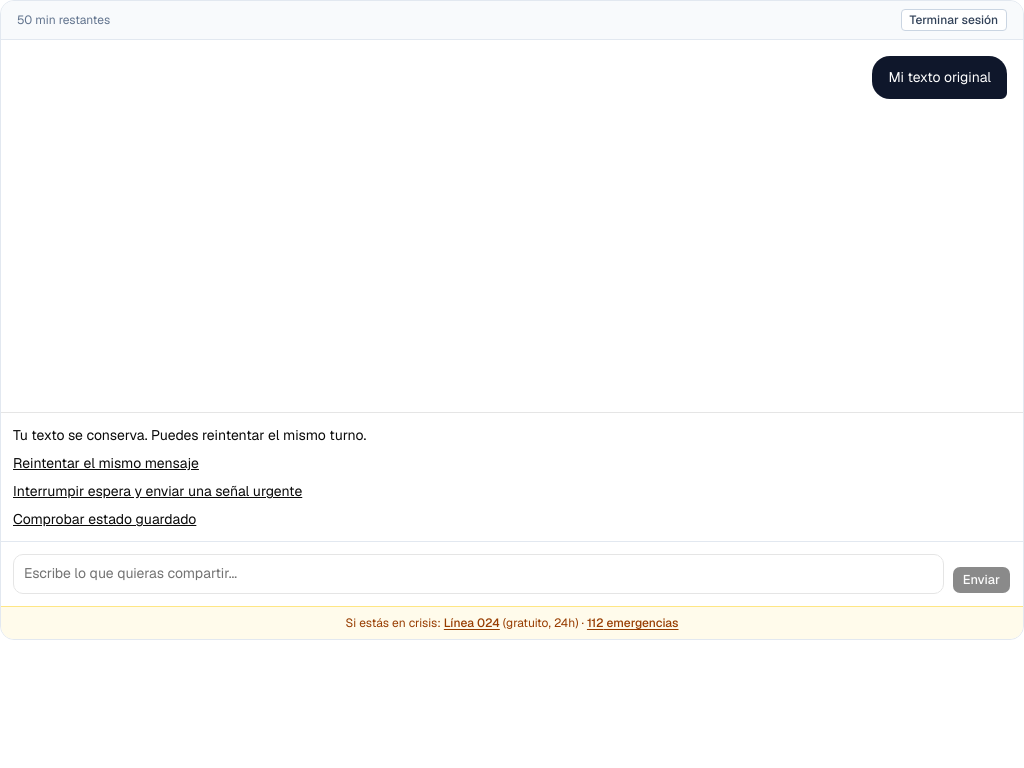
it: recovers the persisted final answer when the server closed but its HTTP response was lost
The width and height of the screenshot is (1024, 768).
Click the button "Reintentar el mismo mensaje" at {"x": 106, "y": 463}, box [13, 453, 199, 473]
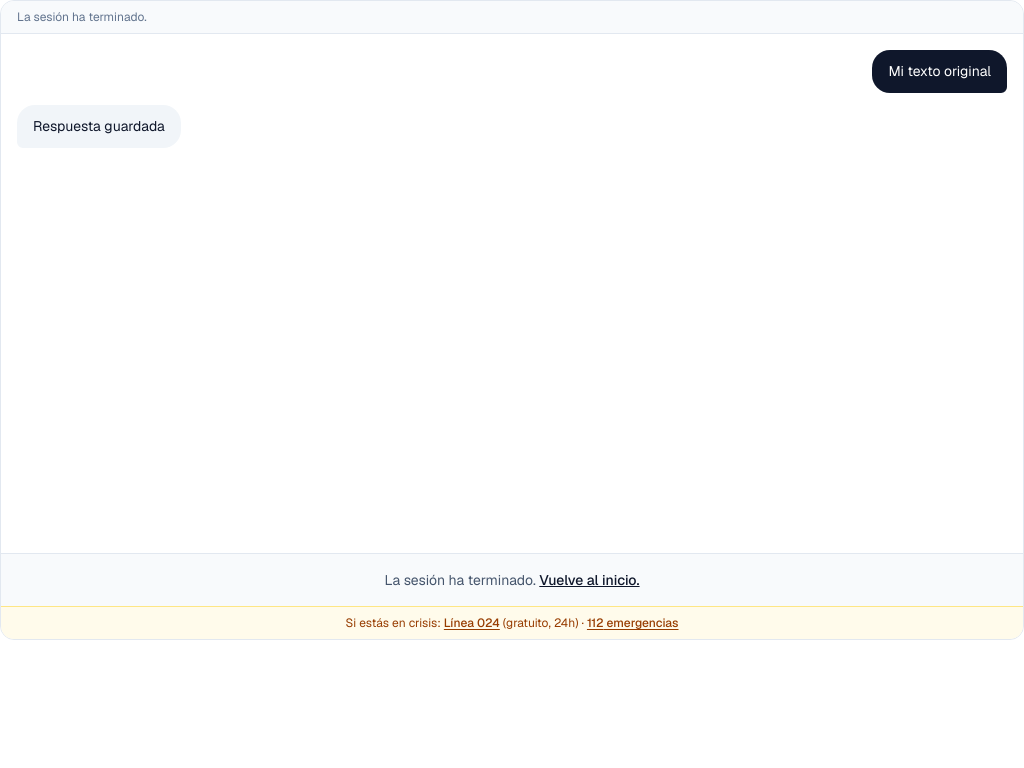
Now the text "Respuesta guardada" is shown, box [33, 117, 165, 135]
Now the button "Reintentar el mismo mensaje" is gone
